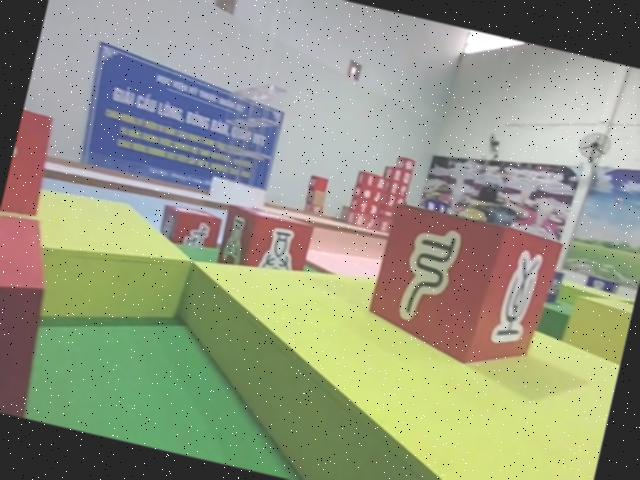R2 Fake: (358, 196, 564, 380)
R2 Real: (213, 199, 315, 286), (156, 200, 222, 255)
